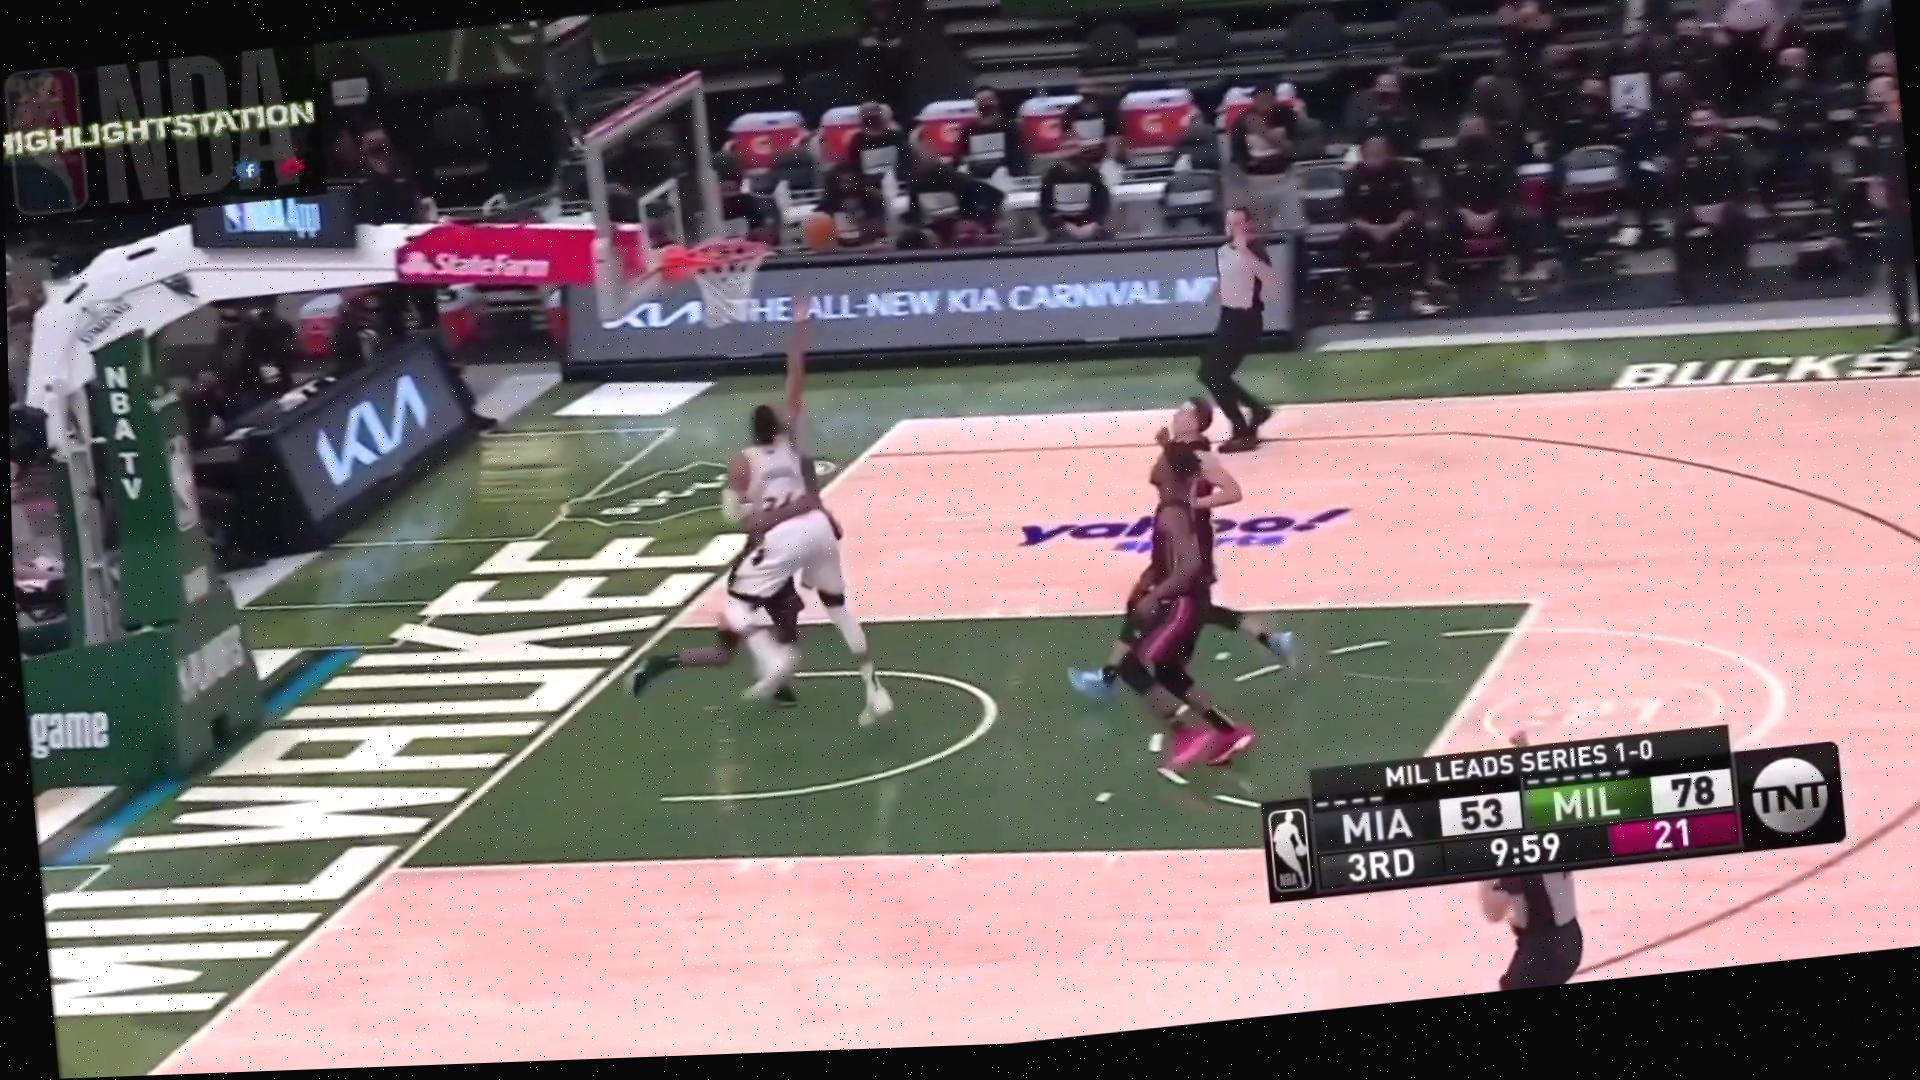foul: (649, 367, 916, 748)
